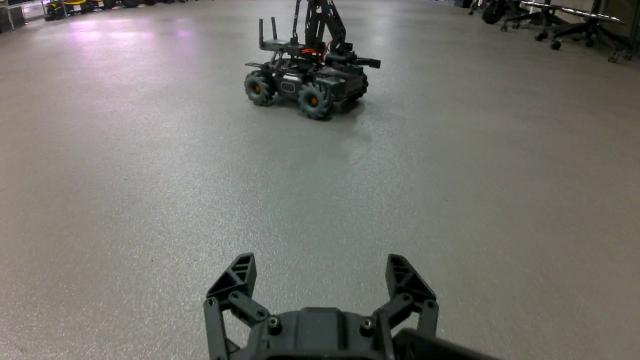robot: (242, 0, 382, 121)
